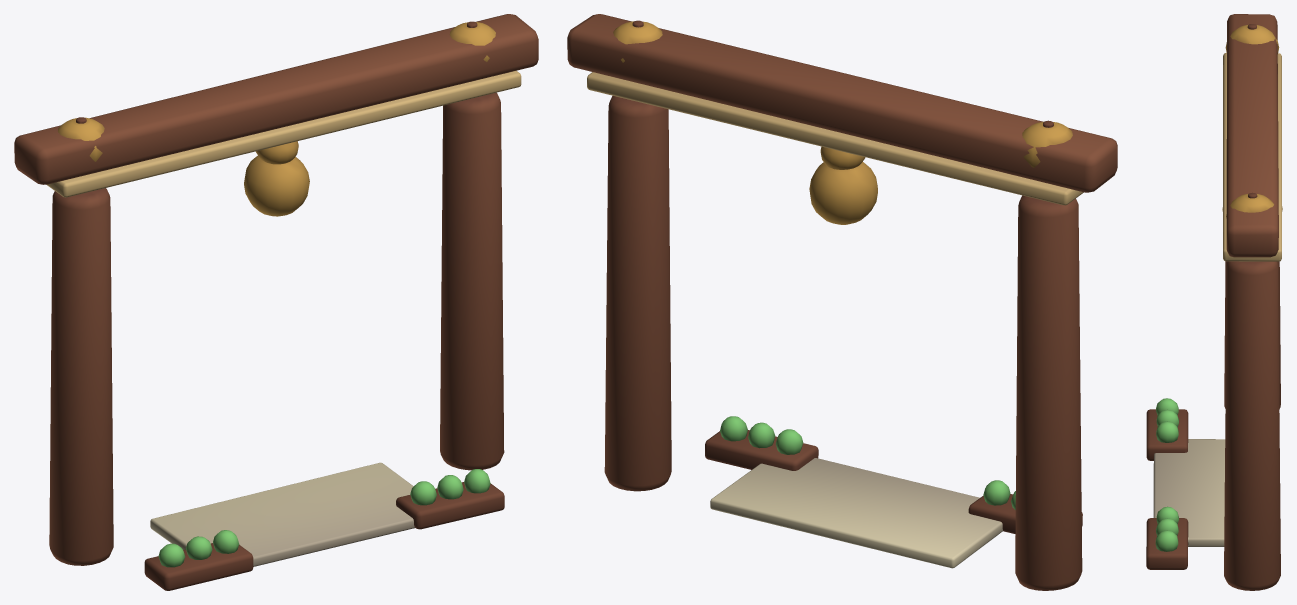
The picture shows the model from 3 angles, left to right: view 1: azimuth 30°, elevation 25°; view 2: azimuth 150°, elevation 25°; view 3: azimuth 270°, elevation 25°; orthographic projection. The views are drawn at different scales.
Visible parts, largest first — view 1: gate_6f06529b; view 2: gate_6f06529b; view 3: gate_6f06529b.
Boxes of the visible parts, box(x1,y1,x2,y2) form: gate_6f06529b: box(14, 14, 538, 590); gate_6f06529b: box(567, 14, 1117, 590); gate_6f06529b: box(1146, 14, 1282, 590).
Bounding box in the file's own units: 5.21 × 4.33 × 1.38.
